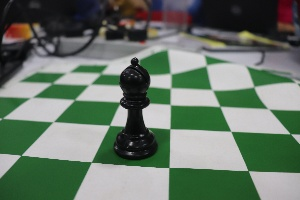black_bishop: (112, 49, 162, 167)
